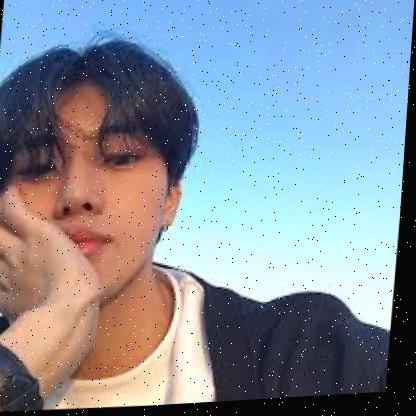person: (0, 21, 200, 303)
